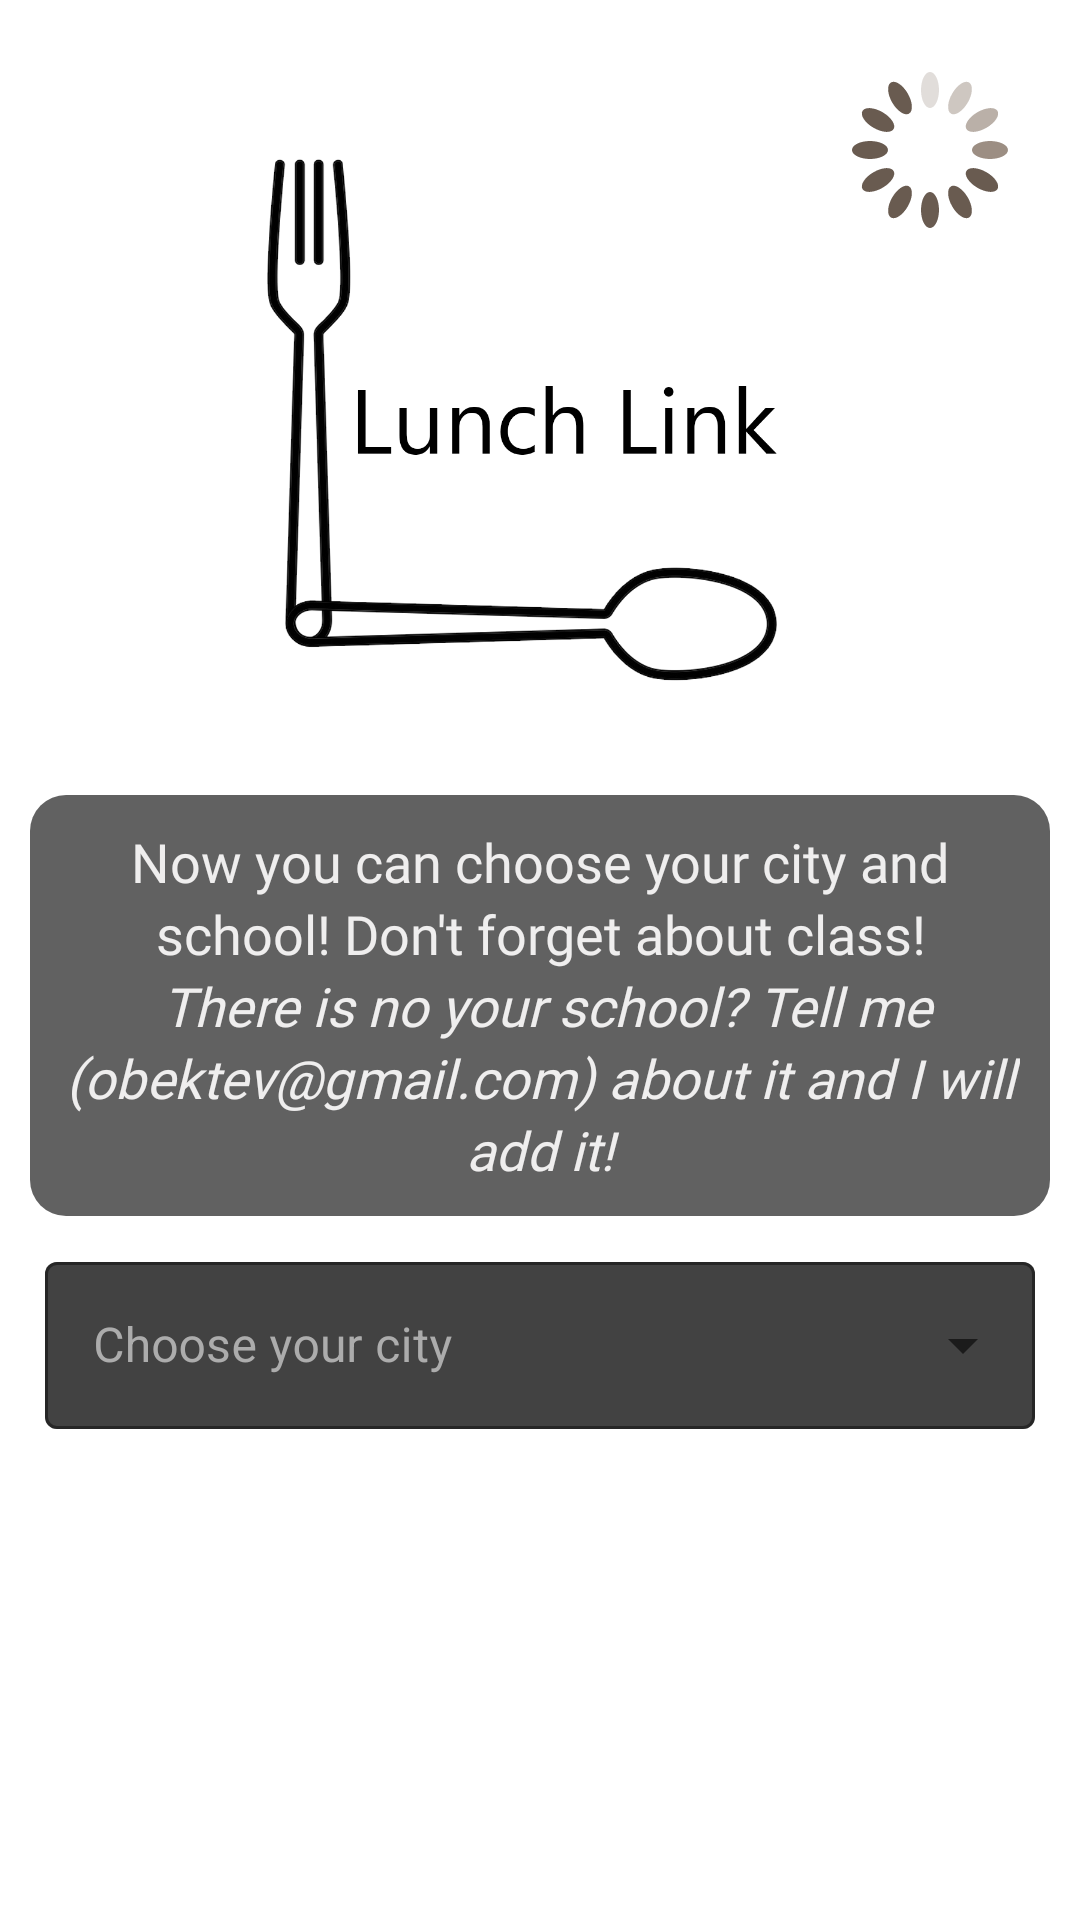

Icon bounding boxes for this 1080 × 1920 phone screenshot, format [x1,y1,x2,y2]:
spin loading: [852,72,1008,228]
